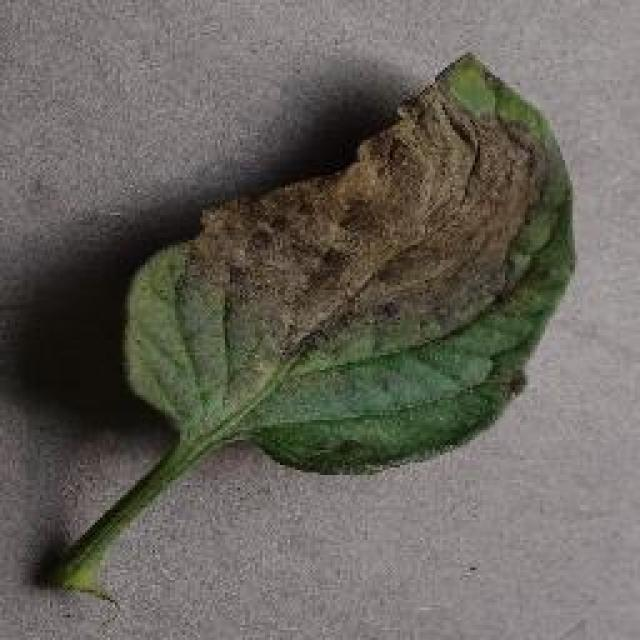Tomato late blight leaf: (115, 46, 582, 482)
